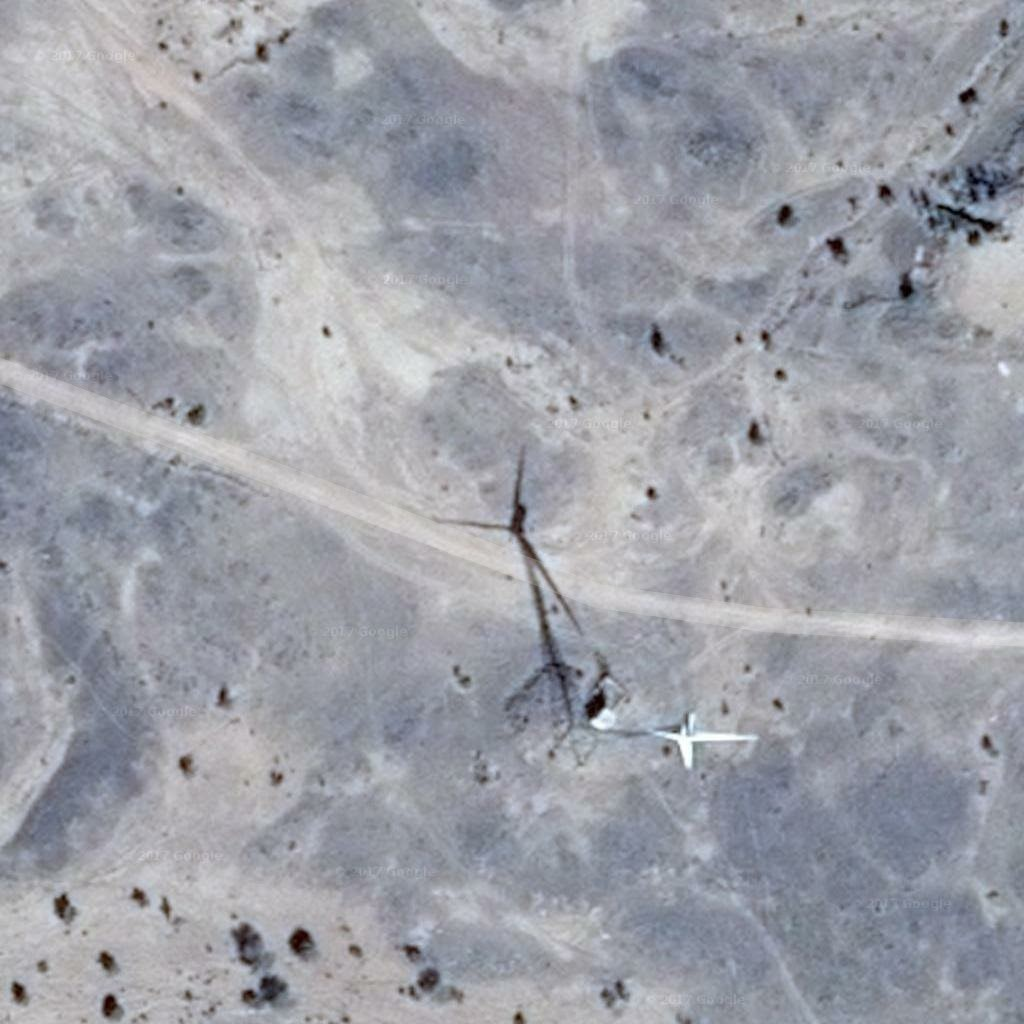Windmill: (435, 462, 600, 730)
